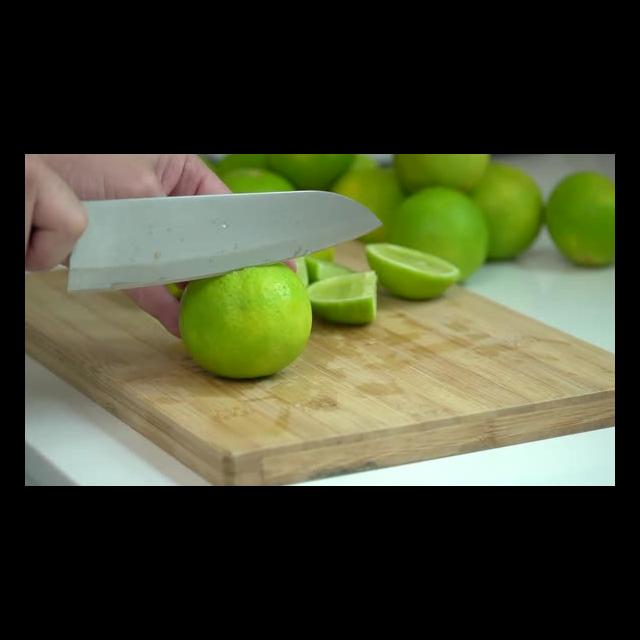lime: (171, 241, 316, 386), (382, 183, 492, 288), (438, 165, 549, 266), (320, 164, 422, 247), (542, 161, 615, 276), (200, 168, 300, 249), (217, 154, 303, 220), (384, 154, 494, 200), (260, 154, 358, 198)
